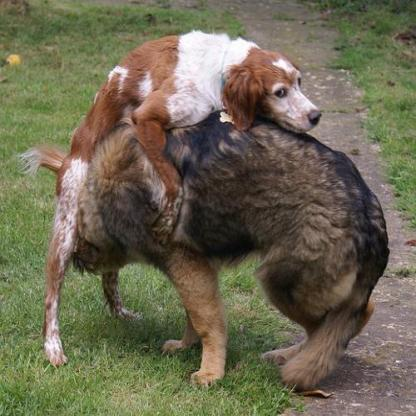Brittany_spaniel: (12, 27, 322, 368)
